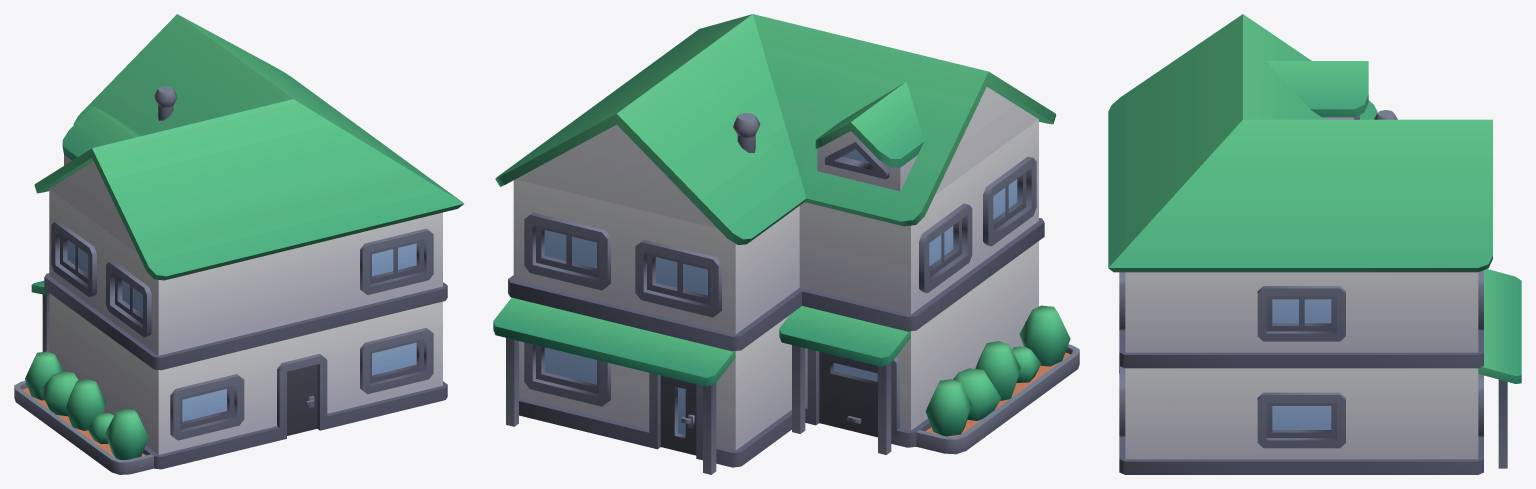
File: suburban.building_type_f.glb
3 views of the same model, side by side, from view 1: azimuth 30°, elevation 25°; view 2: azimuth 150°, elevation 25°; view 3: azimuth 270°, elevation 25° (orthographic). The views are drawn at different scales.
Parts seen in each view (by area): view 1: building-type-f; view 2: building-type-f; view 3: building-type-f.
Part boxes in pixels (x1,y1,x2,y2): building-type-f: (14, 14, 464, 474); building-type-f: (493, 14, 1079, 474); building-type-f: (1108, 14, 1521, 474).
Size of the model in its own units: 7.85 by 6.26 by 7.73.
Materials: 1 (1 with a texture image).
